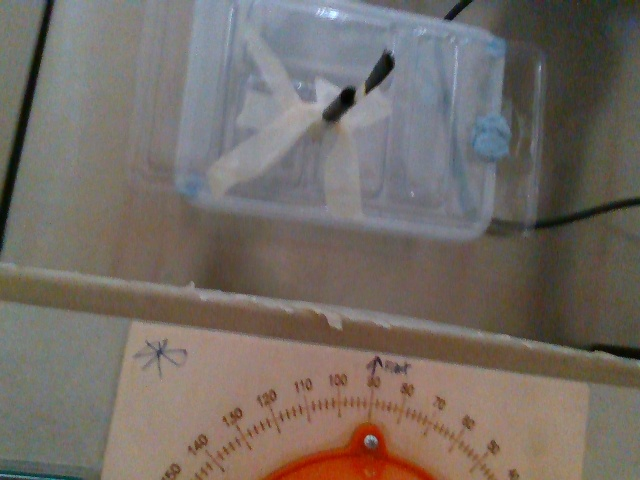test_strip: (356, 47, 393, 102)
